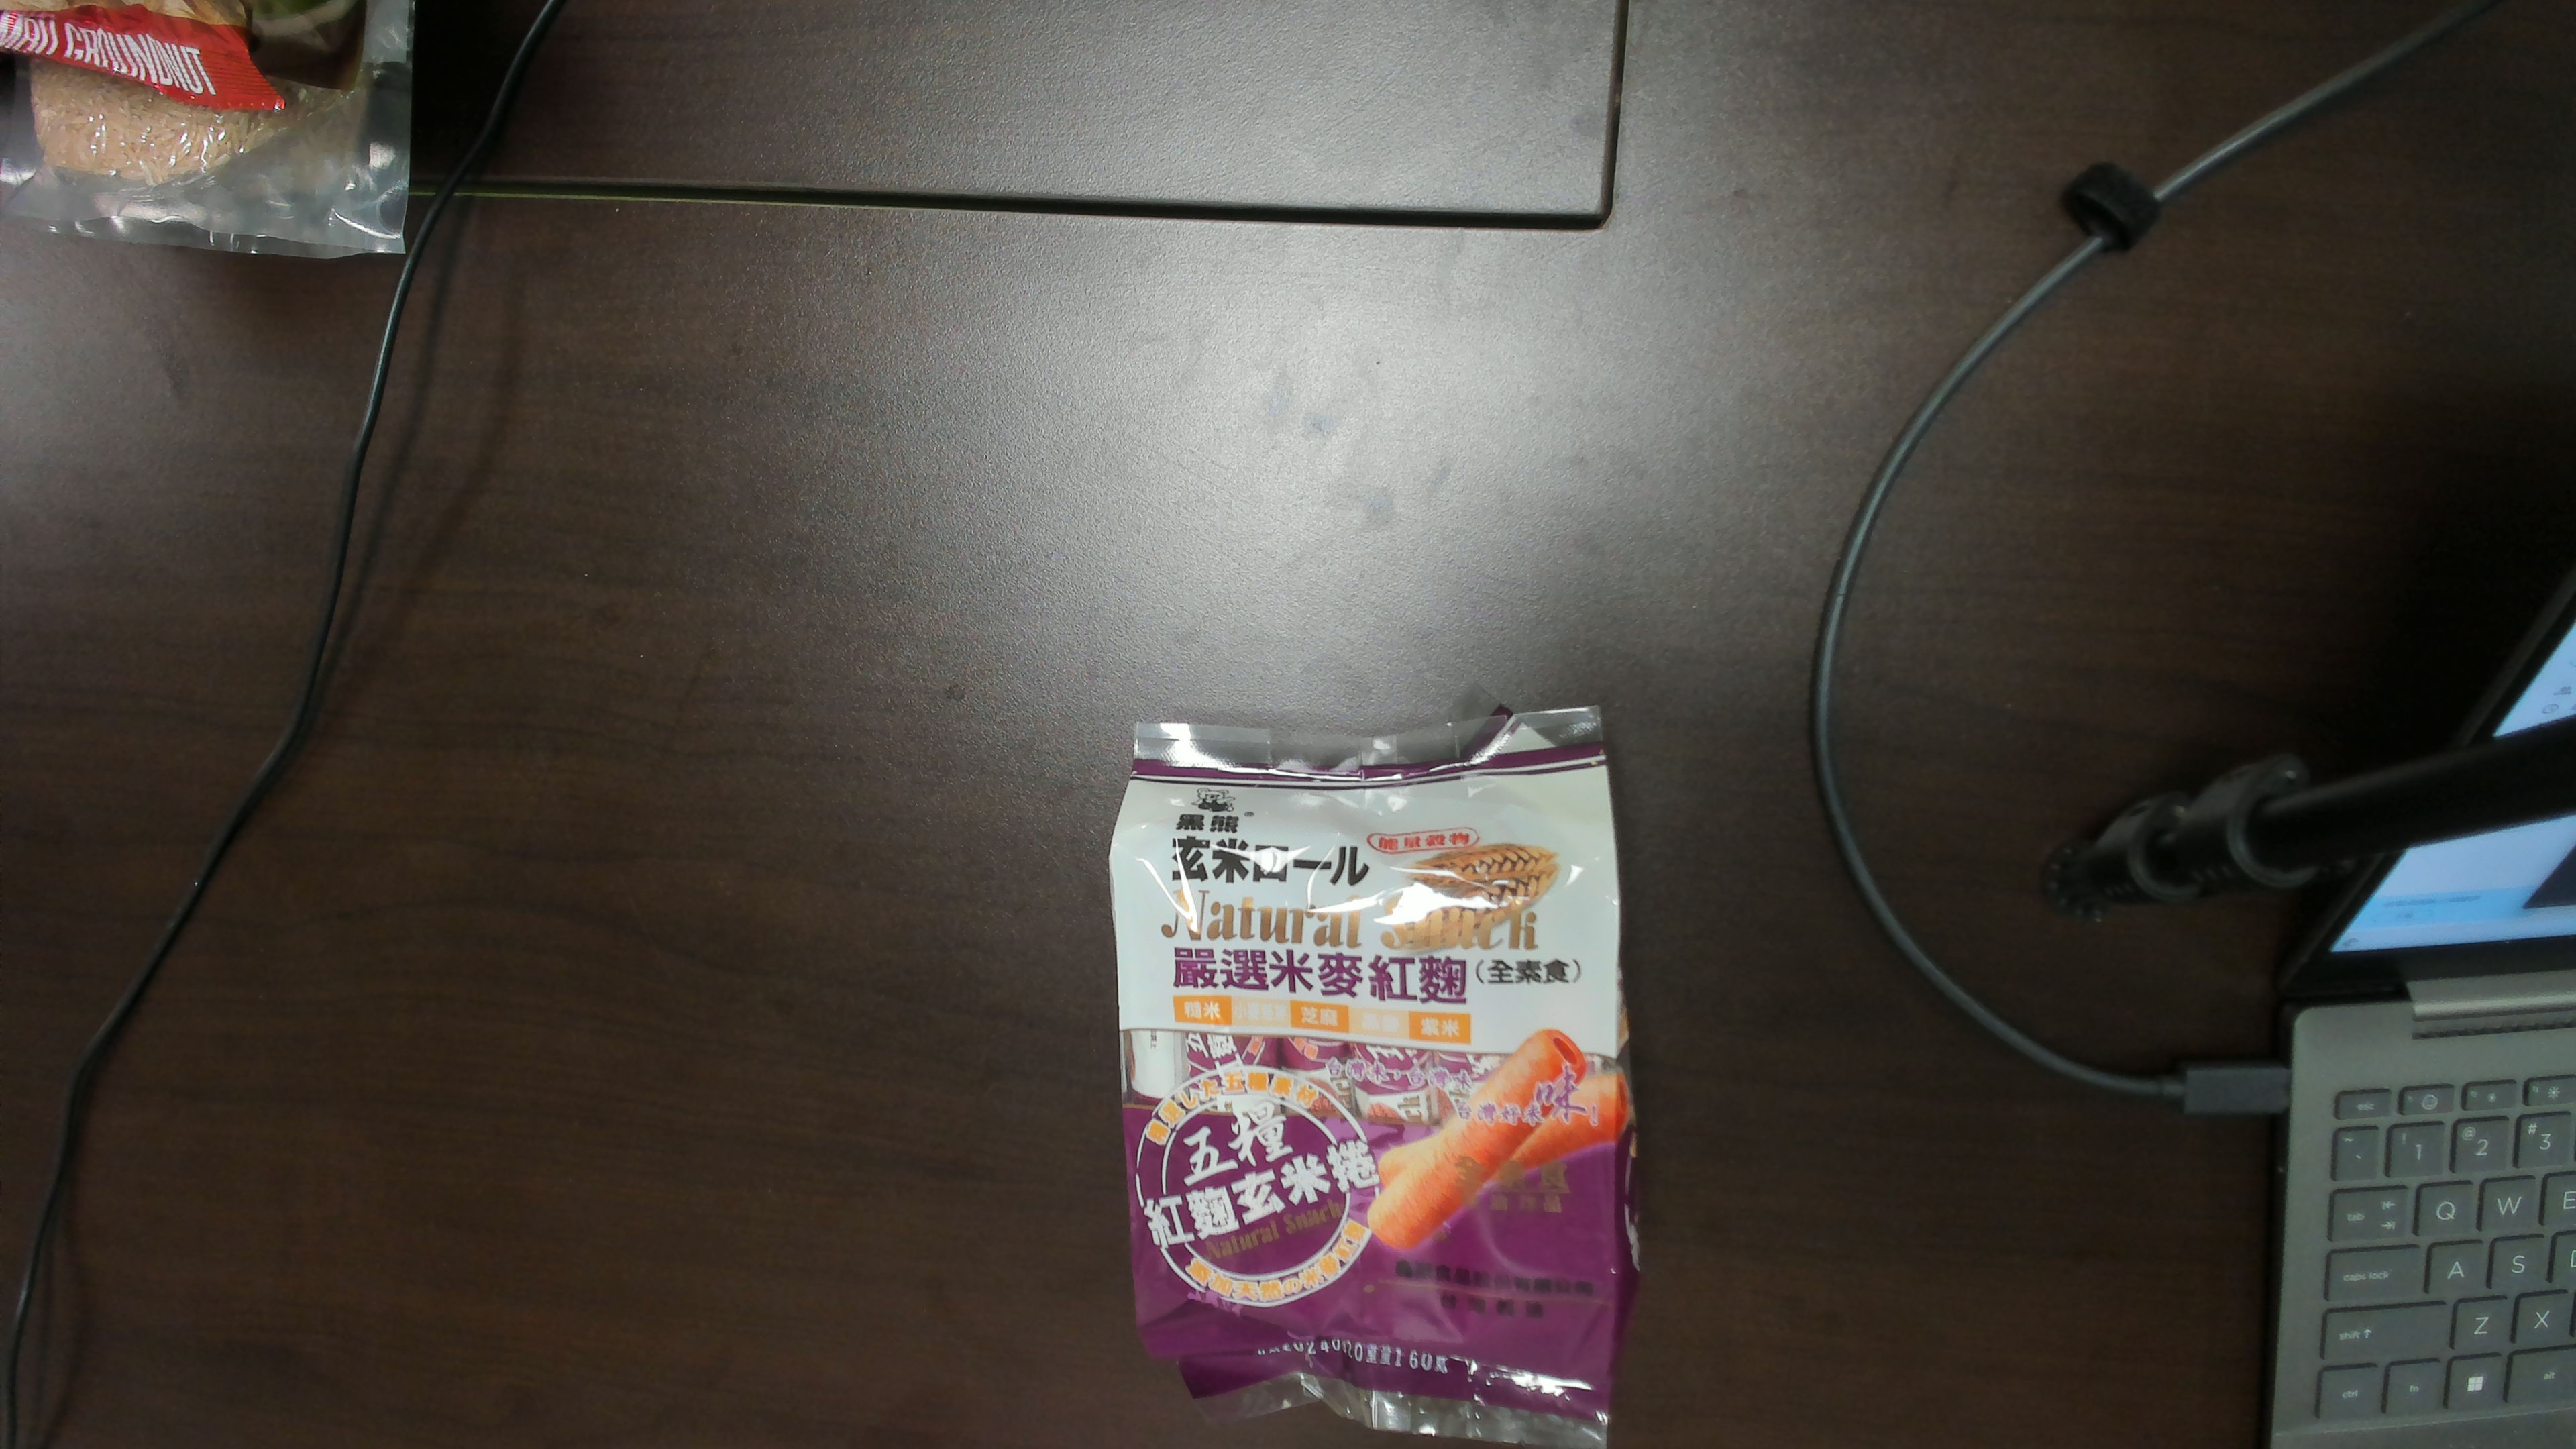BiscuitsCrackersCookies_100-199g_NonHalal_NonHealthy: (1152, 810, 1599, 1332)
